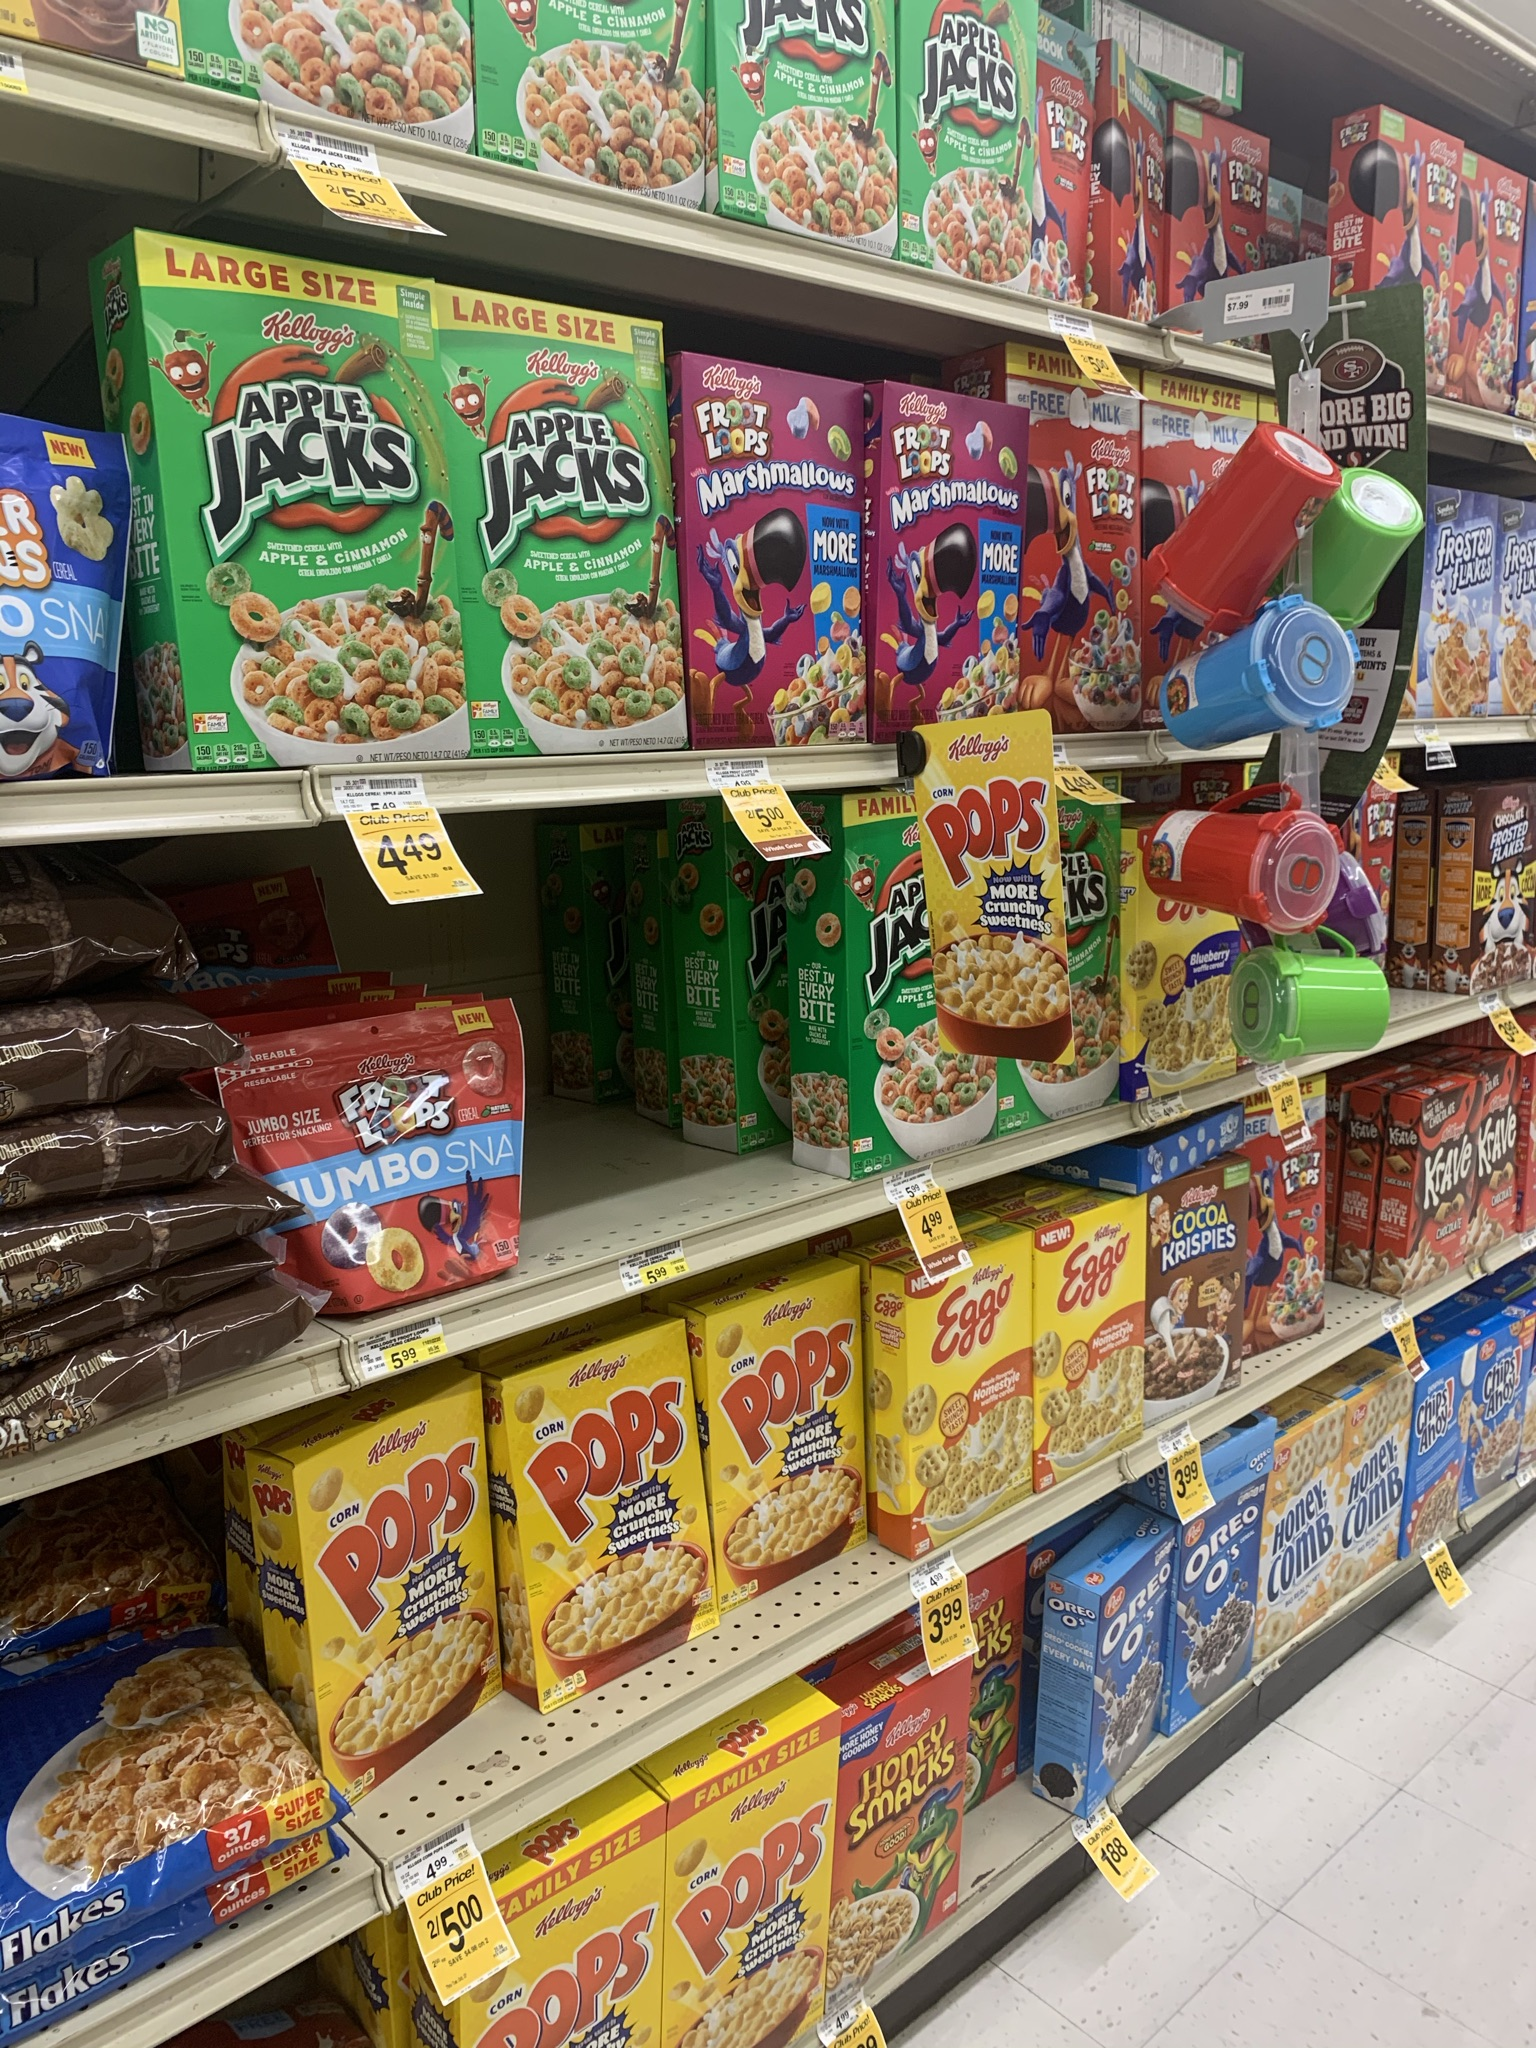cereal: (119, 219, 474, 780), (444, 273, 694, 761), (261, 1421, 499, 1808), (665, 335, 870, 760), (490, 1366, 710, 1684), (866, 374, 1033, 748), (839, 797, 1004, 1156), (649, 1755, 829, 2048), (833, 1671, 987, 2004), (695, 1285, 866, 1585), (884, 1259, 1042, 1551), (1046, 385, 1165, 742), (904, 2, 1049, 281), (484, 3, 699, 173), (1220, 1077, 1347, 1359), (1021, 1188, 1144, 1479), (724, 8, 886, 227), (1044, 1542, 1171, 1804), (1365, 110, 1465, 414), (1146, 1126, 1249, 1401), (1163, 1455, 1258, 1706), (1384, 1055, 1486, 1276)
